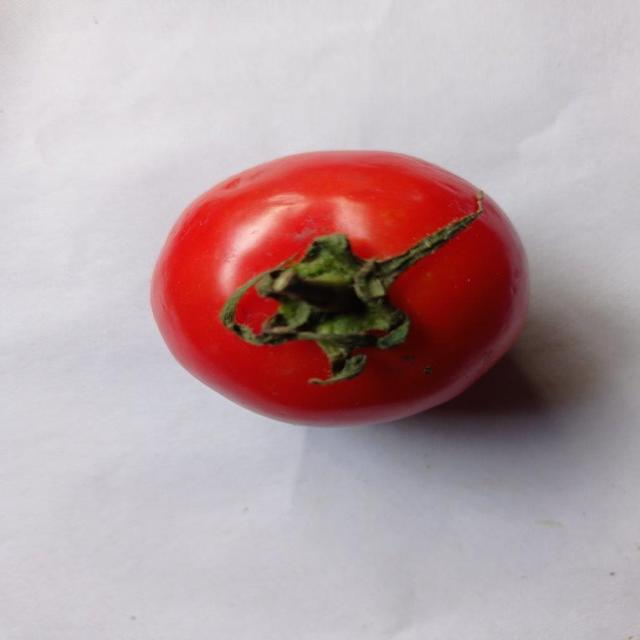Tomato: (142, 144, 530, 431)
